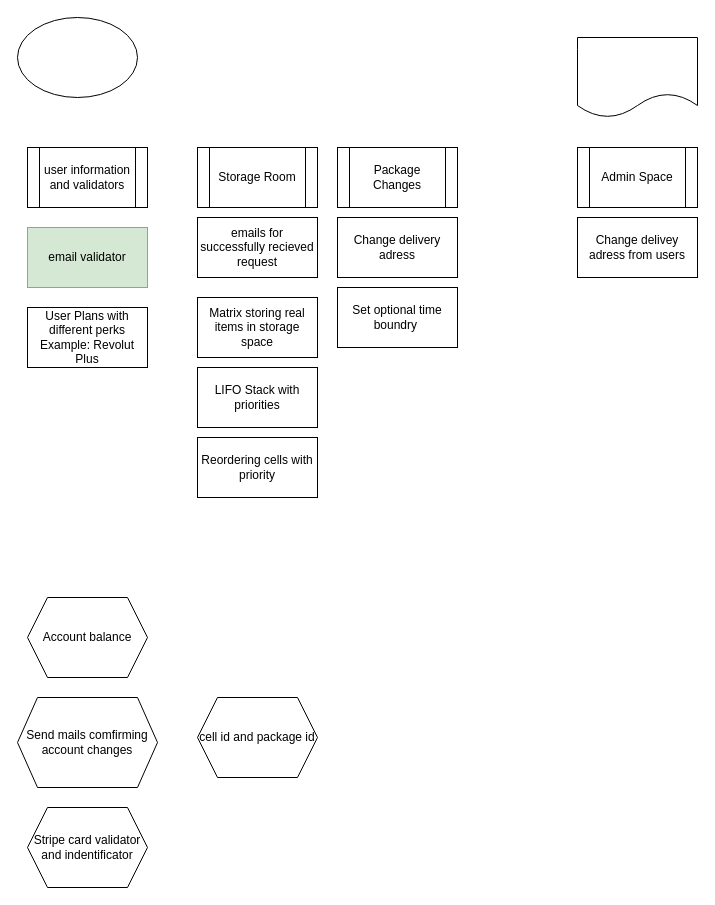
The diagram is 715 pixels wide and 905 high, and some of its shapes have lost their labels. The centre of each missing label's shape, as x and y in pixels:
DeliveryExpert: the point at 77,57
For Later: the point at 637,77
